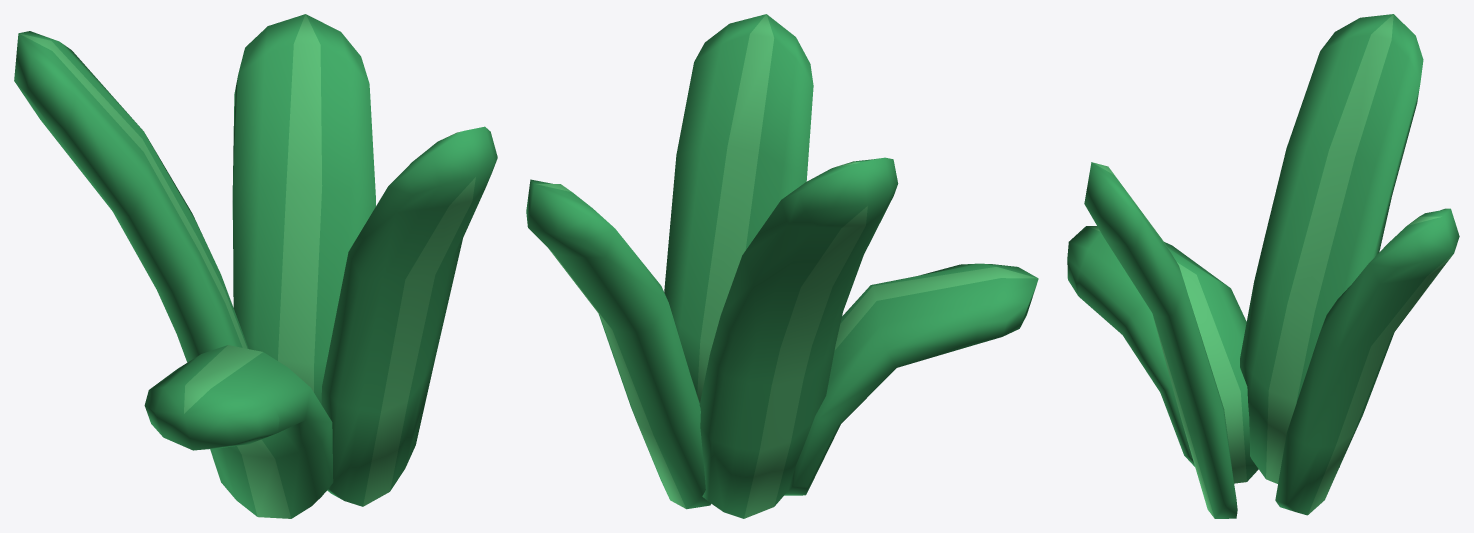
Rendered from Flora_B_03_LOD2.gltf.
3 views of the same model, side by side, from view 1: azimuth 30°, elevation 25°; view 2: azimuth 150°, elevation 25°; view 3: azimuth 270°, elevation 25° (orthographic). The views are drawn at different scales.
Visible parts, largest first — view 1: Flora_B_03_LOD2_Plane.040; view 2: Flora_B_03_LOD2_Plane.040; view 3: Flora_B_03_LOD2_Plane.040.
Boxes of the visible parts, box(x1,y1,x2,y2) form: Flora_B_03_LOD2_Plane.040: box(14, 14, 497, 518); Flora_B_03_LOD2_Plane.040: box(526, 14, 1038, 518); Flora_B_03_LOD2_Plane.040: box(1067, 14, 1459, 518).
Size of the model in its own units: 2.79 by 3.35 by 3.01.
Materials: 1 (1 with a texture image).
